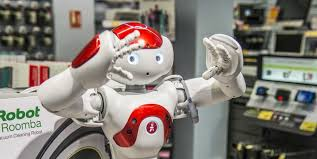nao: (29, 19, 251, 159)
